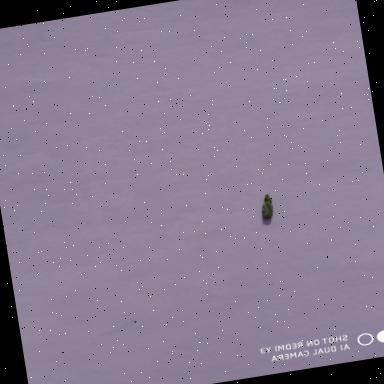pbw: (259, 192, 274, 220)
